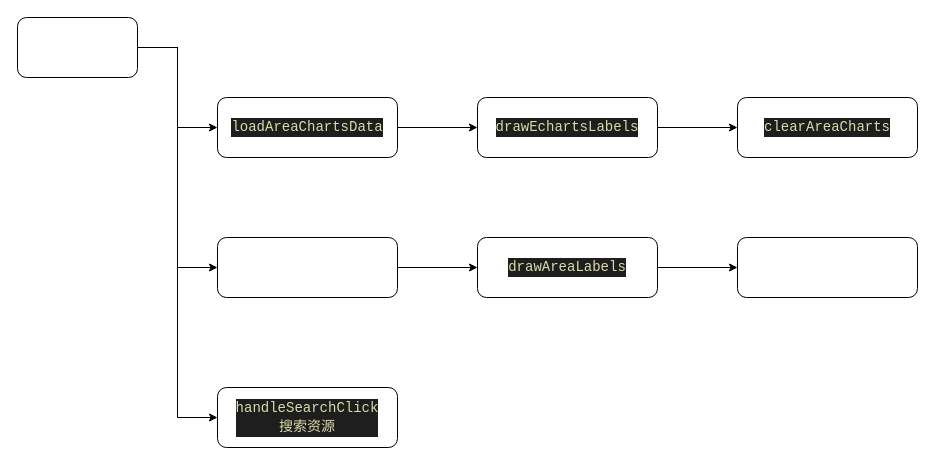
This 935x465 diagram has some shape labels left out. Each missing label, with the centre of its shape:
clearAreaLabels: [827,267]
loadAreaMarkersData: [307,267]
mapLoaded: [77,47]
